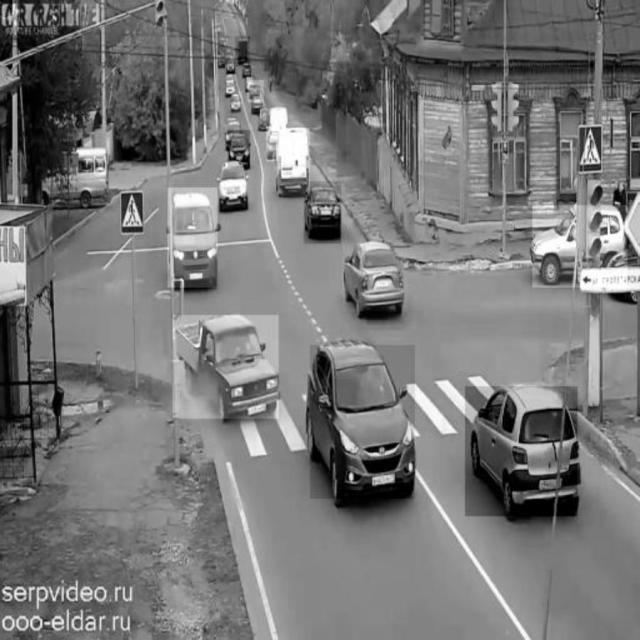vehicle: (310, 345, 414, 499), (465, 387, 577, 517), (173, 316, 279, 419), (533, 205, 629, 287), (168, 188, 218, 288), (343, 242, 407, 310), (305, 182, 342, 244), (278, 128, 310, 196), (218, 161, 250, 211), (229, 130, 251, 167), (267, 126, 284, 161), (236, 36, 251, 66), (258, 108, 273, 132), (248, 80, 264, 102), (229, 91, 243, 111), (224, 55, 236, 73)
